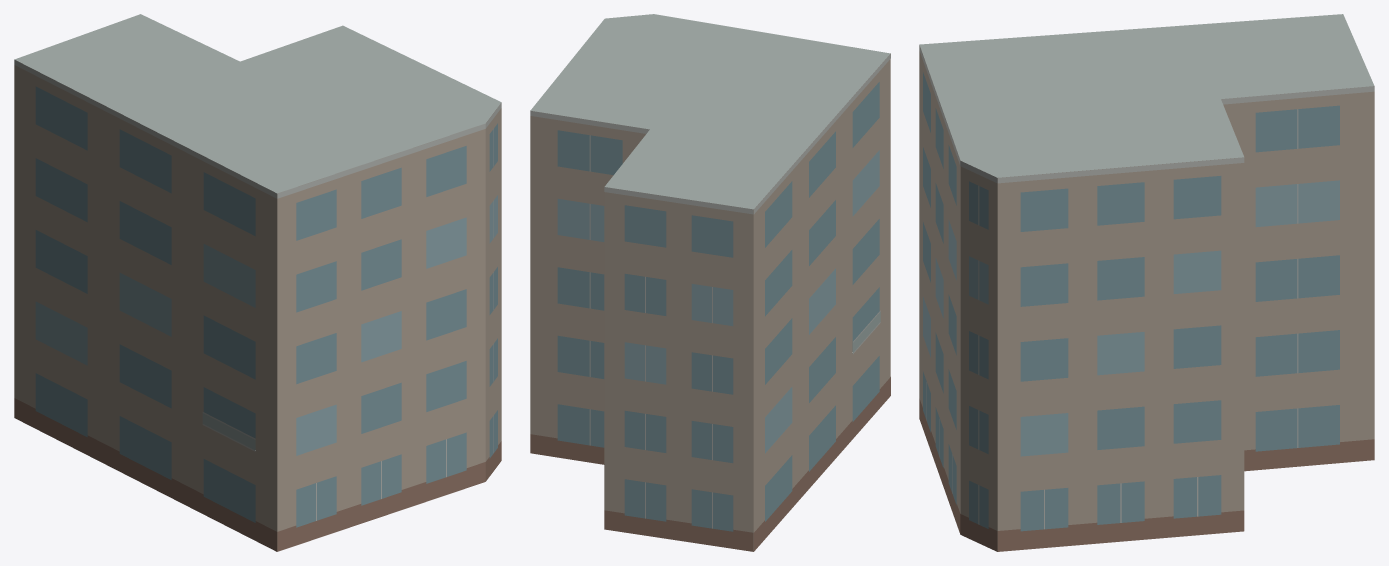
File: survey-upis-32750316.glb
3 views of the same model, side by side, from view 1: azimuth 30°, elevation 25°; view 2: azimuth 150°, elevation 25°; view 3: azimuth 270°, elevation 25° (orthographic). The views are drawn at different scales.
Visible parts, largest first — view 1: survey-upis-32750316.tmp; view 2: survey-upis-32750316.tmp; view 3: survey-upis-32750316.tmp.
Boxes of the visible parts, box(x1,y1,x2,y2) form: survey-upis-32750316.tmp: box(14, 14, 501, 551); survey-upis-32750316.tmp: box(530, 14, 890, 551); survey-upis-32750316.tmp: box(919, 14, 1374, 551).
Bounding box in the file's own units: 15.32 × 16.3 × 17.99.
